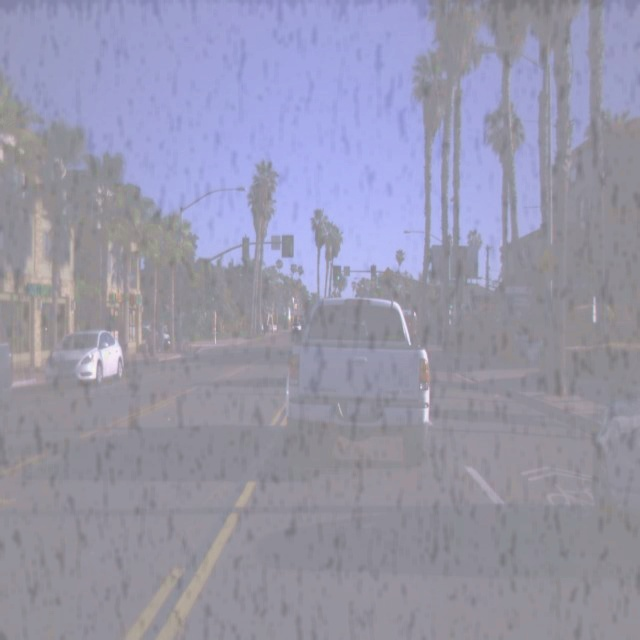go: (334, 259, 342, 282), (209, 282, 217, 302), (369, 267, 378, 281), (448, 296, 454, 309)
go traffic light: (334, 259, 342, 282), (209, 282, 217, 302), (369, 267, 378, 281), (448, 296, 454, 309)
